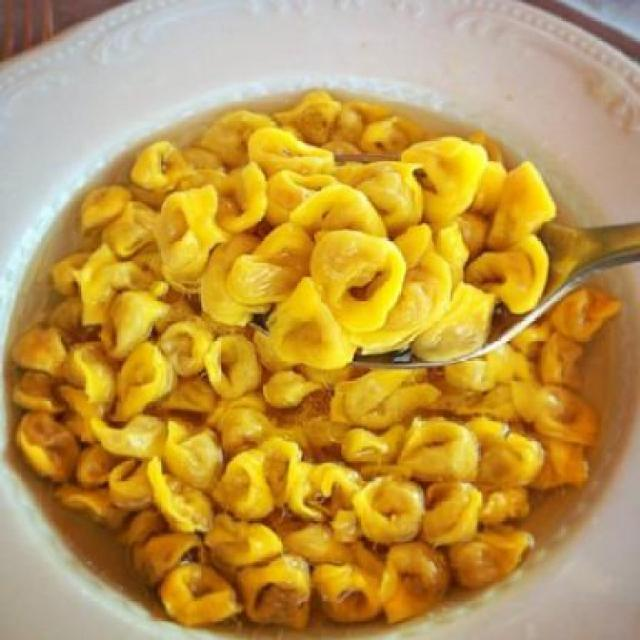Tortellini in broth: (40, 112, 528, 586)
